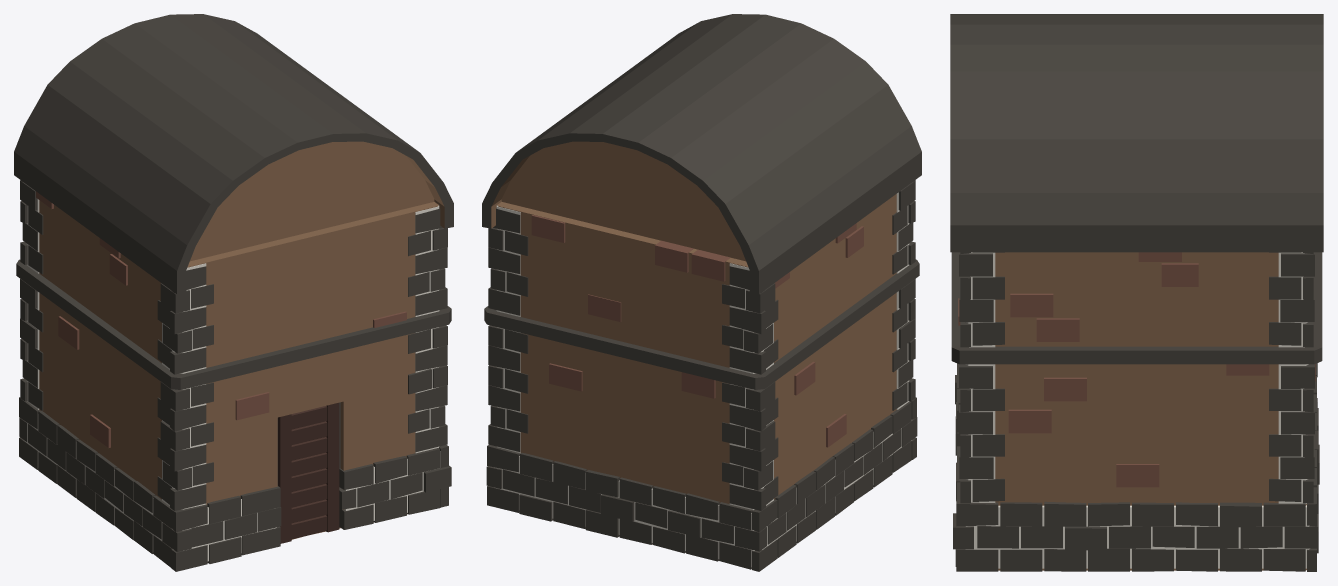
File: london-terrace-b.glb
The picture shows the model from 3 angles, left to right: view 1: azimuth 30°, elevation 25°; view 2: azimuth 150°, elevation 25°; view 3: azimuth 270°, elevation 25°; orthographic projection. The views are drawn at different scales.
Size of the model in its own units: 2.11 by 2.9 by 2.13.
